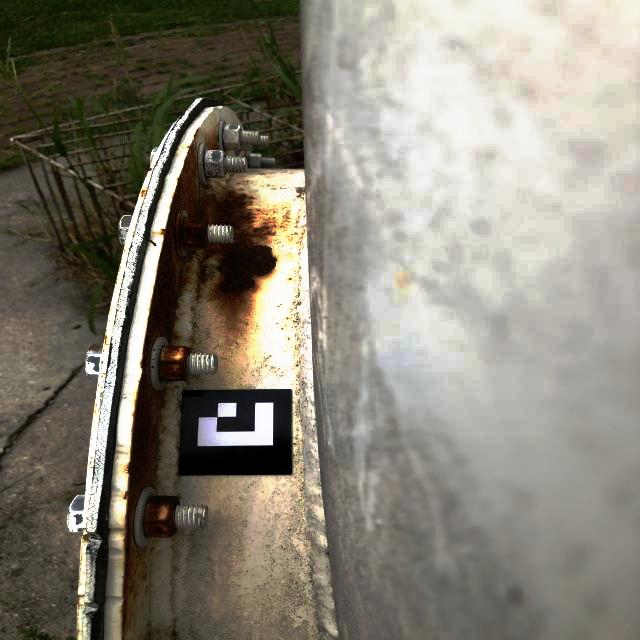Corrosion: (120, 127, 279, 640), (142, 495, 180, 538), (157, 345, 192, 381), (182, 216, 209, 248), (192, 260, 213, 301), (201, 123, 219, 150), (219, 174, 236, 185), (88, 343, 103, 352), (140, 188, 146, 200), (148, 240, 157, 247), (104, 335, 108, 346), (148, 167, 153, 171)
